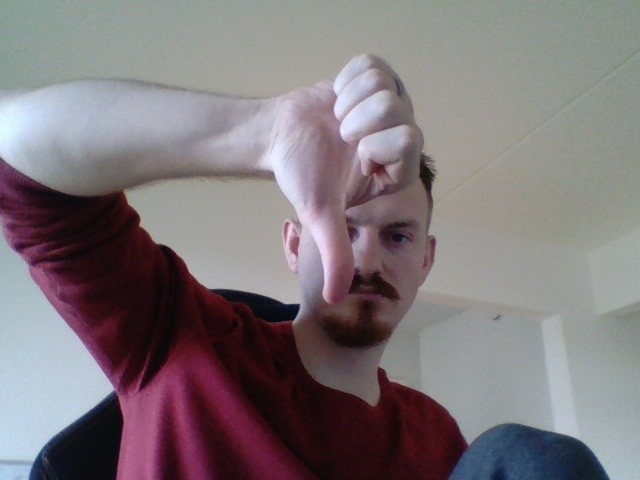ThumpsDown: (274, 51, 426, 305)
